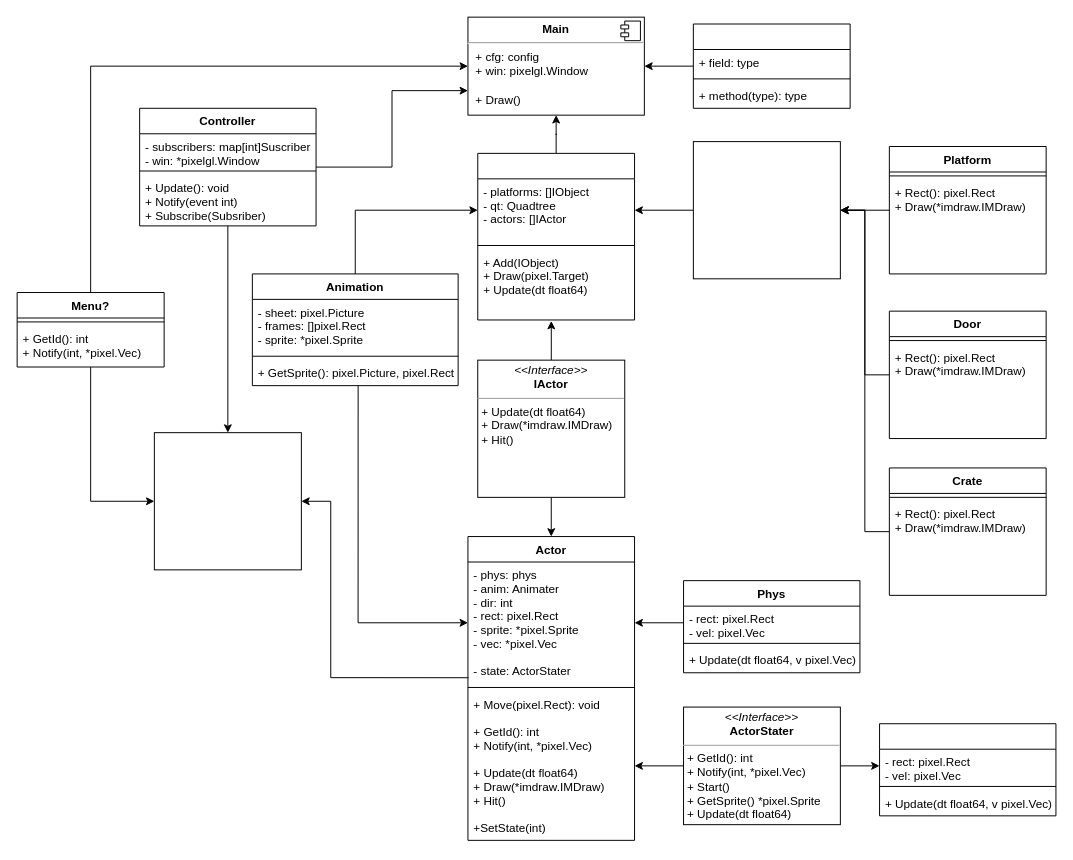
This 1073x860 diagram has some shape labels left out. The shapes that lost their labels are listed below. From the top down, each one's box as (x1, y1, x2, y2) in pixels, then its label:
(692, 23, 850, 108): Config
(692, 141, 840, 279): <<Interface>> IObject + GetRect() pixel.Rect + Draw(*imdraw.IMDraw)
(477, 152, 635, 320): World
(153, 432, 301, 570): <<Interface>> controller.Subscriber + GetId(): int + Notify(int, *pixel.Vec)
(879, 723, 1056, 816): State
